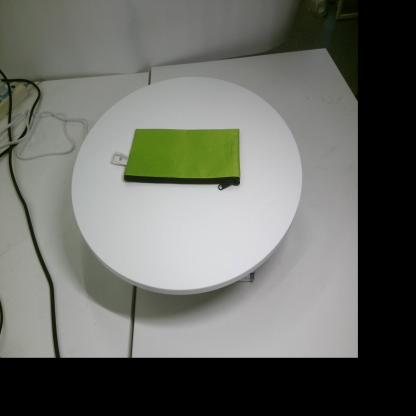Stationery: (112, 129, 241, 190)
